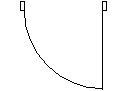door: (22, 11, 107, 91)
